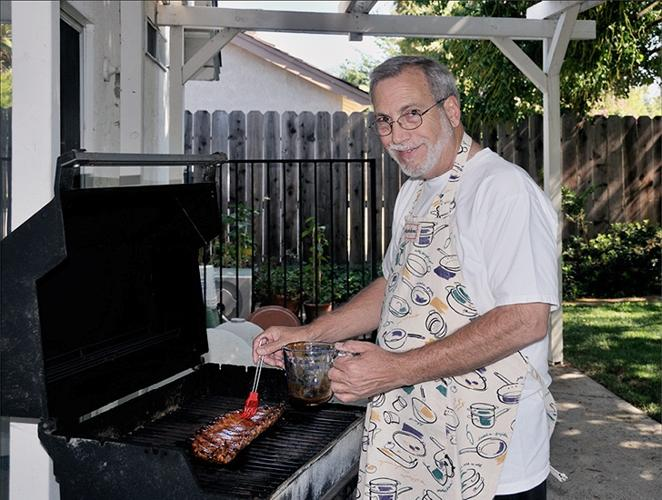person: (253, 54, 561, 500)
